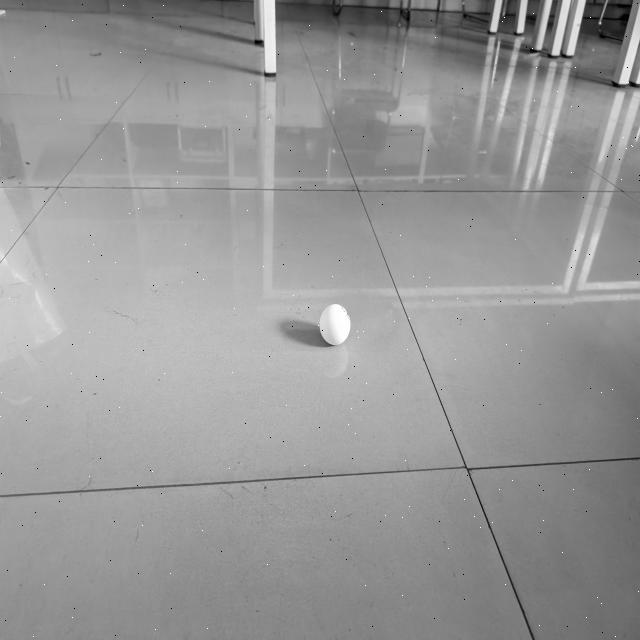ping-pong-ball: (320, 303, 351, 346)
